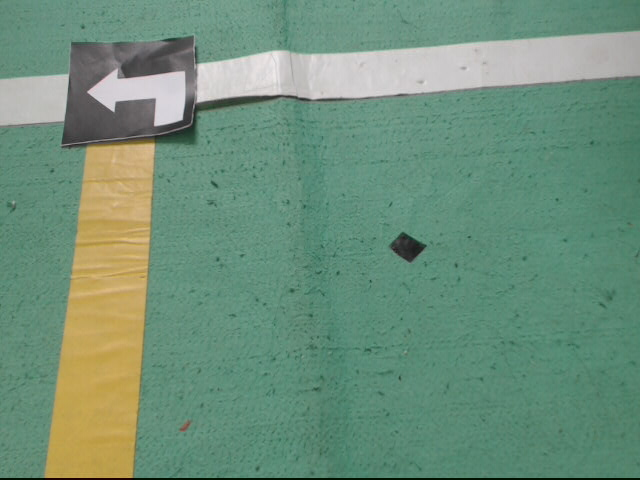left: (64, 35, 198, 142)
